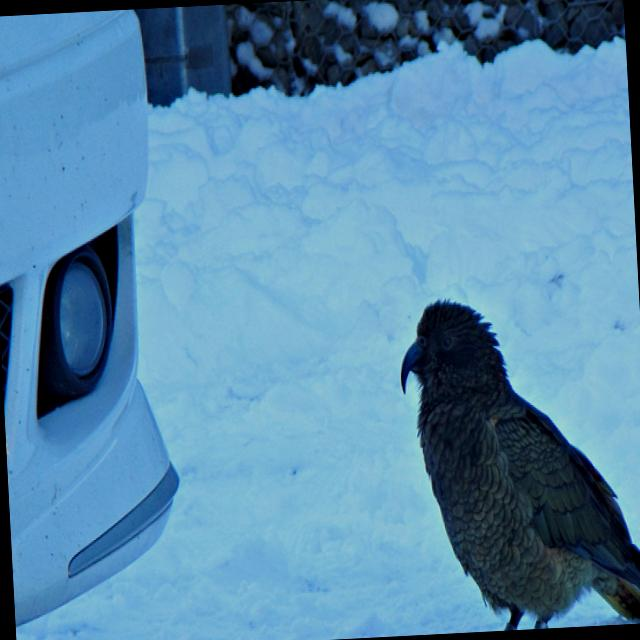Vehicle: (0, 8, 188, 640)
